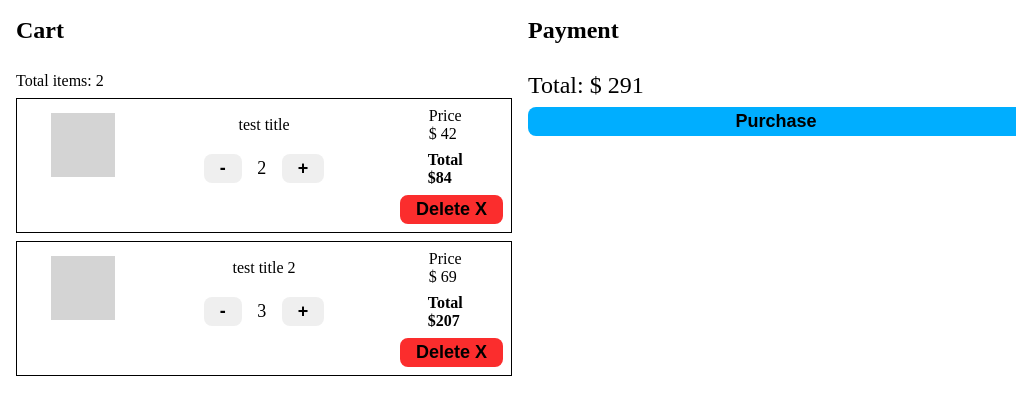
Test: makes a purchase and clears the cart
Expected: the heading "Cart" is shown, [16,17,64,43]
Expected: the heading "Payment" is shown, [528,17,619,43]
Click the button "Purchase": [772, 121] box [528,107,1016,136]
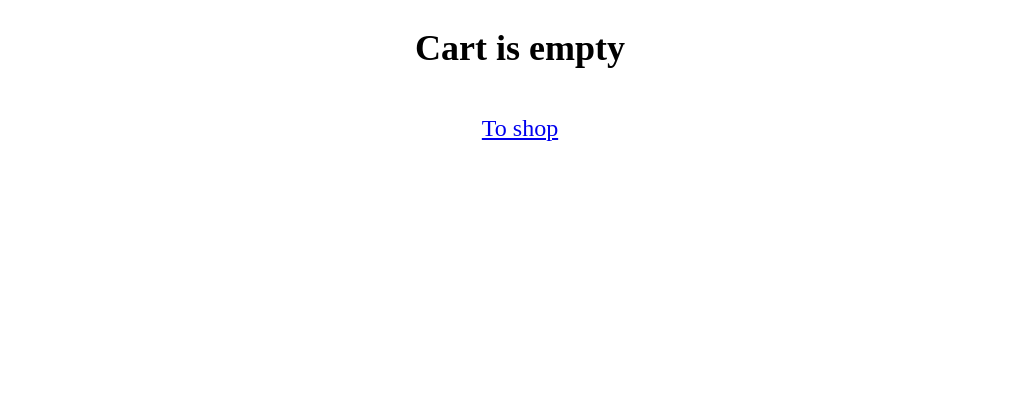
Expected: the heading "Cart is empty" is shown, [415,28,625,68]
Expected: the link "To shop" is shown, [482,115,558,141]
